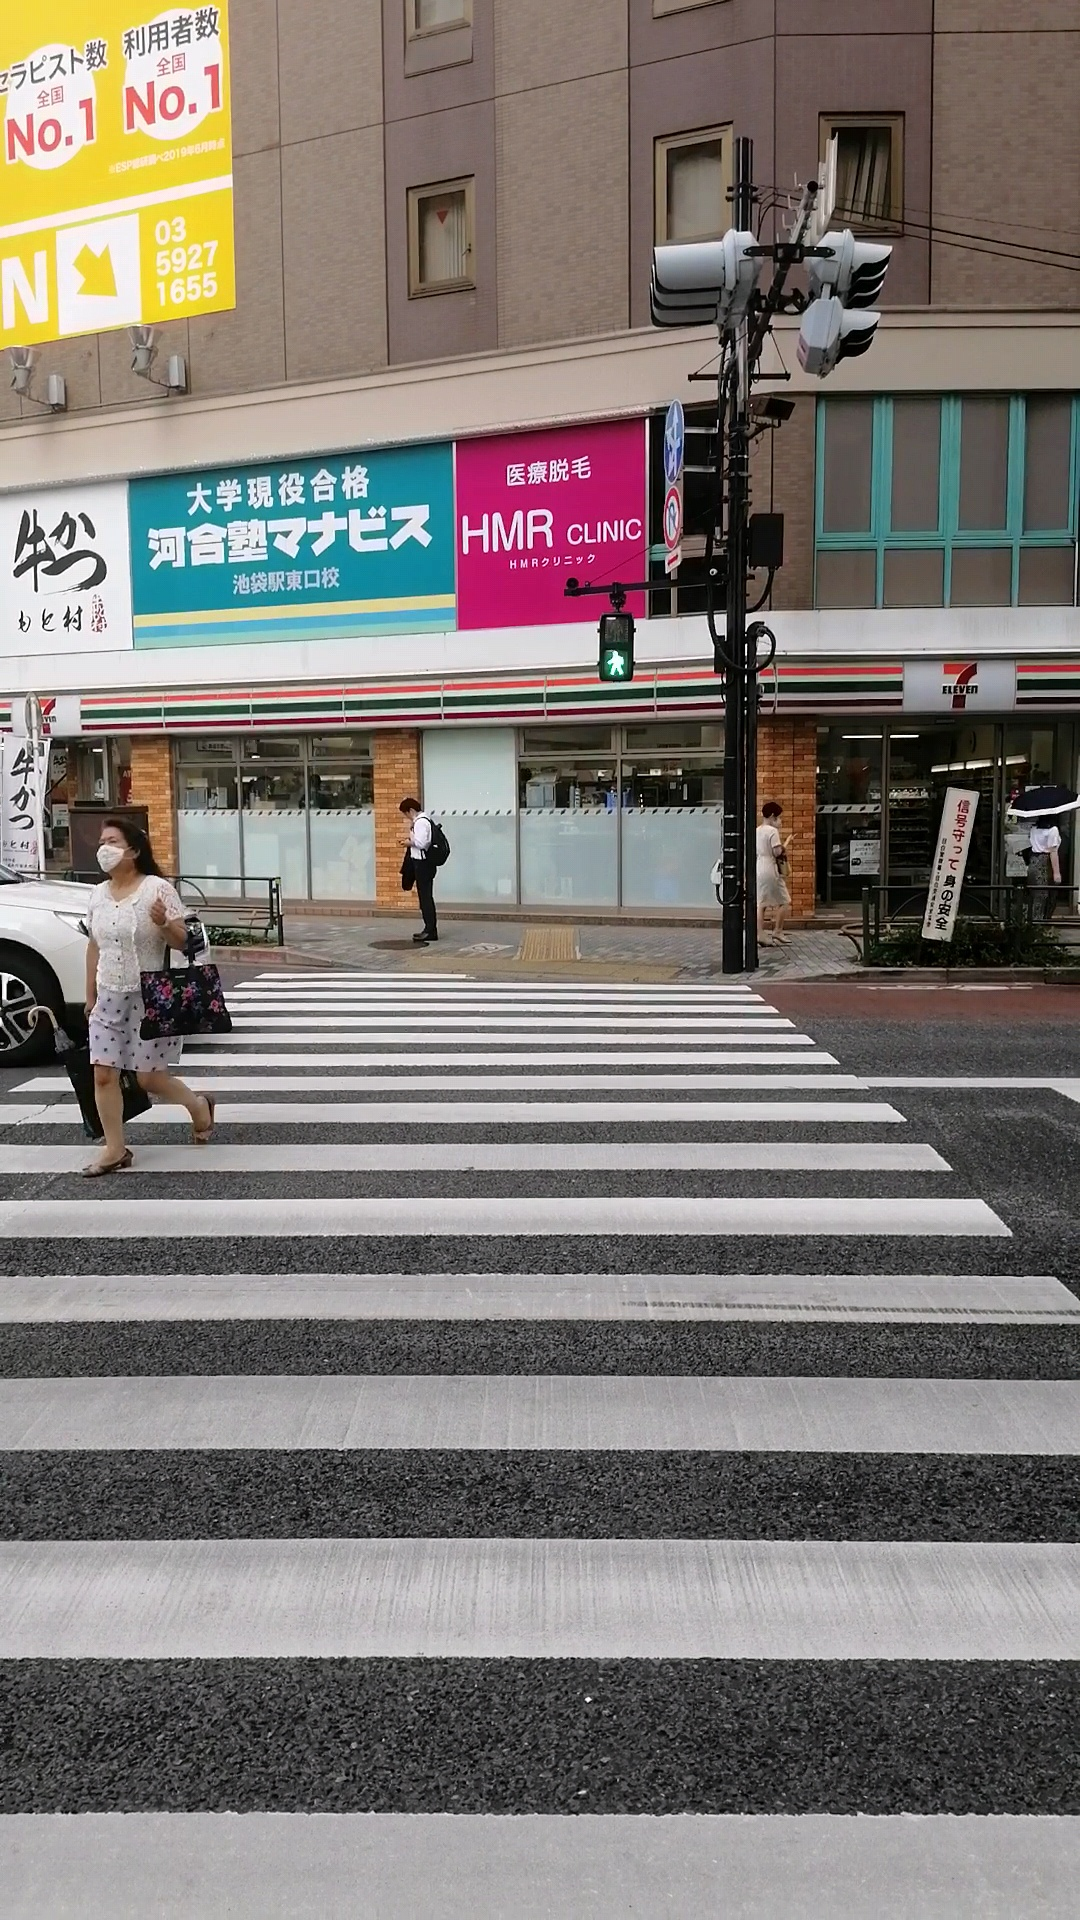green: (597, 612, 634, 680)
